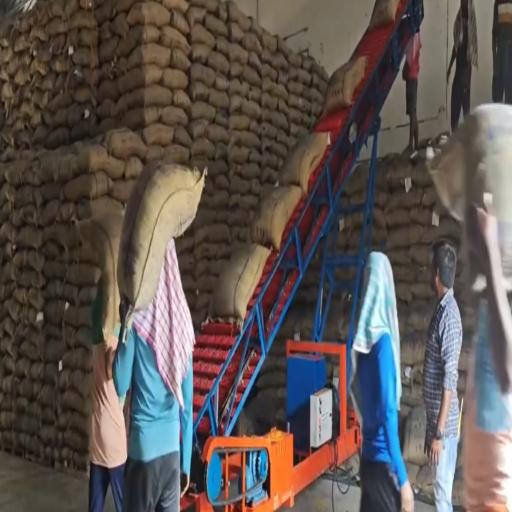Rice-bag-10: (117, 160, 207, 311), (77, 205, 124, 336), (209, 244, 270, 325), (251, 185, 302, 249), (279, 132, 330, 192), (322, 56, 367, 115), (368, 0, 399, 30)
c-belt: (181, 0, 424, 511)
